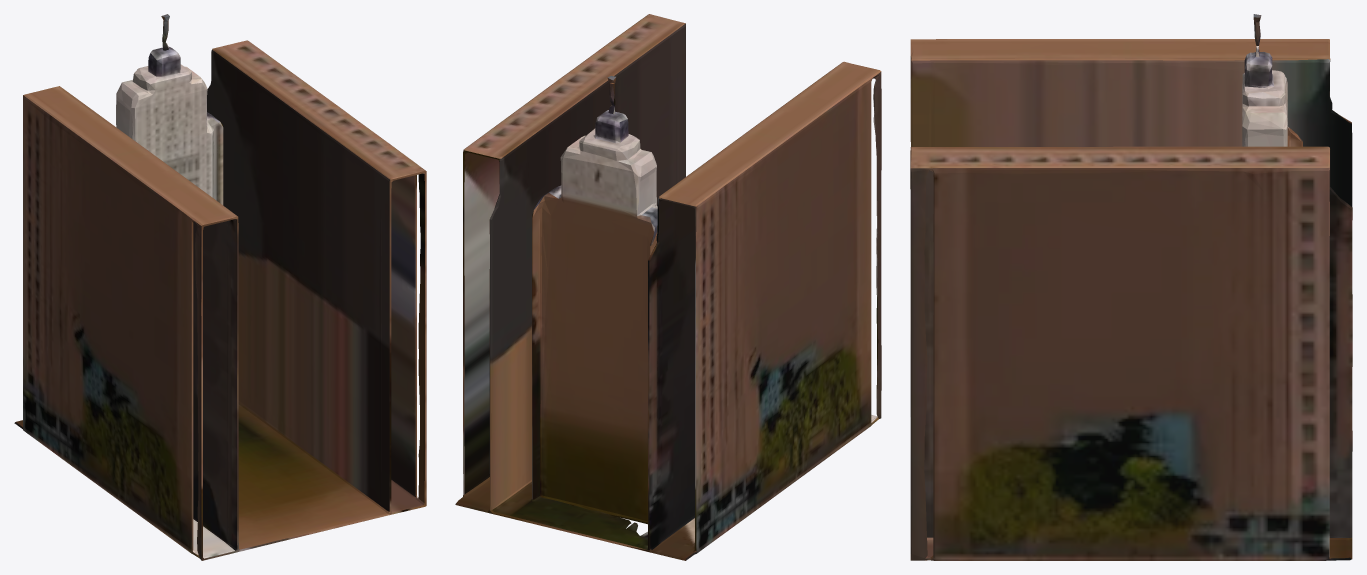
File: torre_interlagos.glb
3 renders of one model, left to right at view 1: azimuth 30°, elevation 25°; view 2: azimuth 150°, elevation 25°; view 3: azimuth 270°, elevation 25°, orthographic. The views are drawn at different scales.
Visible parts, largest first — view 1: tmphe1o0uef.ply; view 2: tmphe1o0uef.ply; view 3: tmphe1o0uef.ply.
Boxes of the visible parts, x1=… form: tmphe1o0uef.ply: x1=14, y1=14, x2=426, y2=560; tmphe1o0uef.ply: x1=455, y1=14, x2=881, y2=560; tmphe1o0uef.ply: x1=910, y1=14, x2=1352, y2=560.
Bounding box in the file's own units: 1.15 × 1.99 × 1.66.
Materials: 1 (1 with a texture image).
